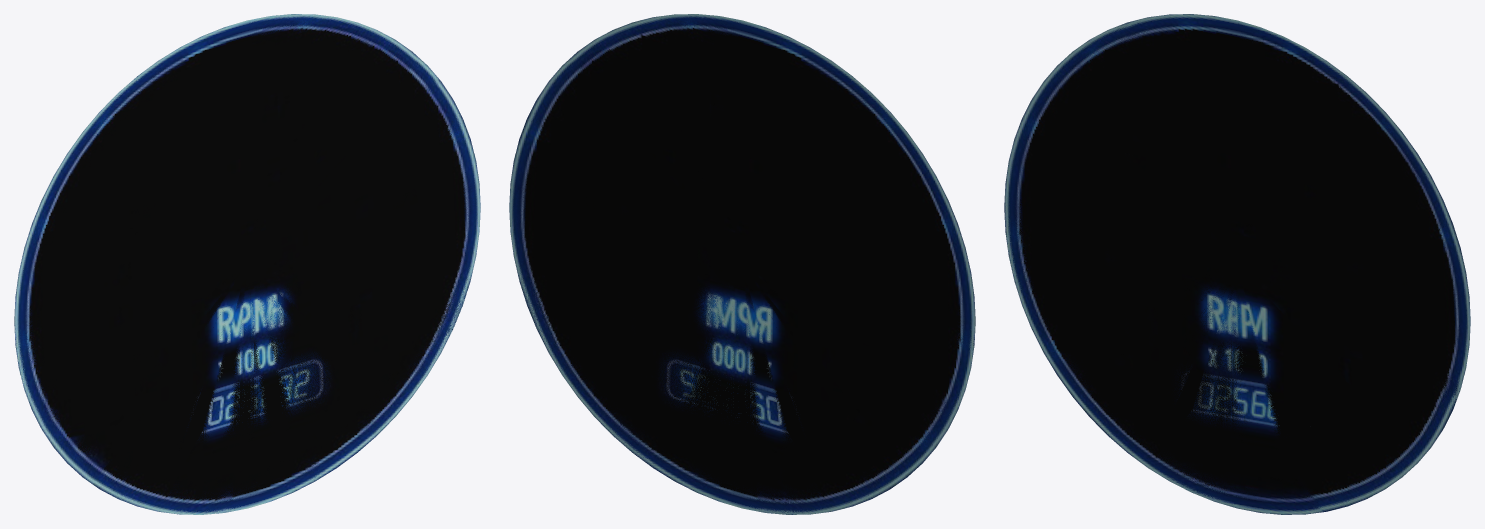
The model's file is digitalDash.obj.
3 renders of one model, left to right at view 1: azimuth 30°, elevation 25°; view 2: azimuth 150°, elevation 25°; view 3: azimuth 330°, elevation 25°, orthographic.
Visible parts, largest first — view 1: RevCounterDial_Circle.001, SpeedometerDial_Circle; view 2: RevCounterDial_Circle.001, SpeedometerDial_Circle; view 3: RevCounterDial_Circle.001, SpeedometerDial_Circle.
Boxes of the visible parts, <box> form: RevCounterDial_Circle.001: <box>14,14,480,514</box>; SpeedometerDial_Circle: <box>14,14,480,514</box>; RevCounterDial_Circle.001: <box>509,14,975,514</box>; SpeedometerDial_Circle: <box>509,14,974,514</box>; RevCounterDial_Circle.001: <box>1004,14,1470,512</box>; SpeedometerDial_Circle: <box>1004,14,1470,514</box>.
Size of the model in its own units: 1.99 by 1.99 by 0.
2 materials, 2 textured.
